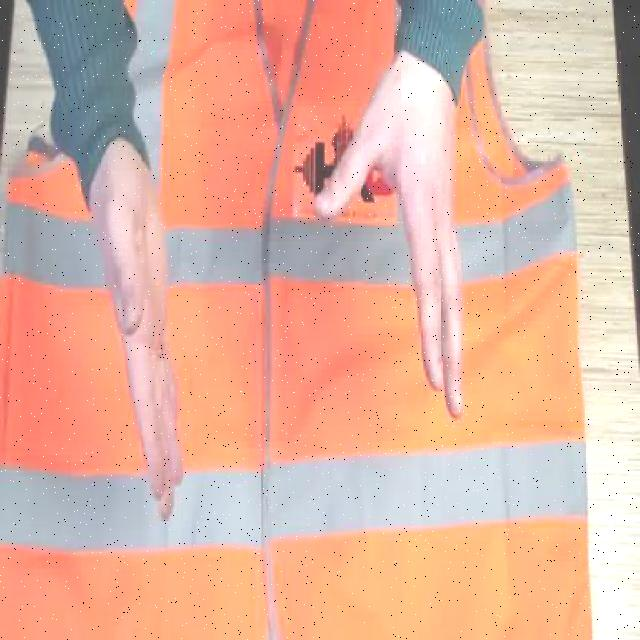Mask: (0, 0, 597, 638)
